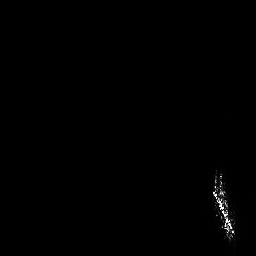ship: (211, 168, 237, 243)
